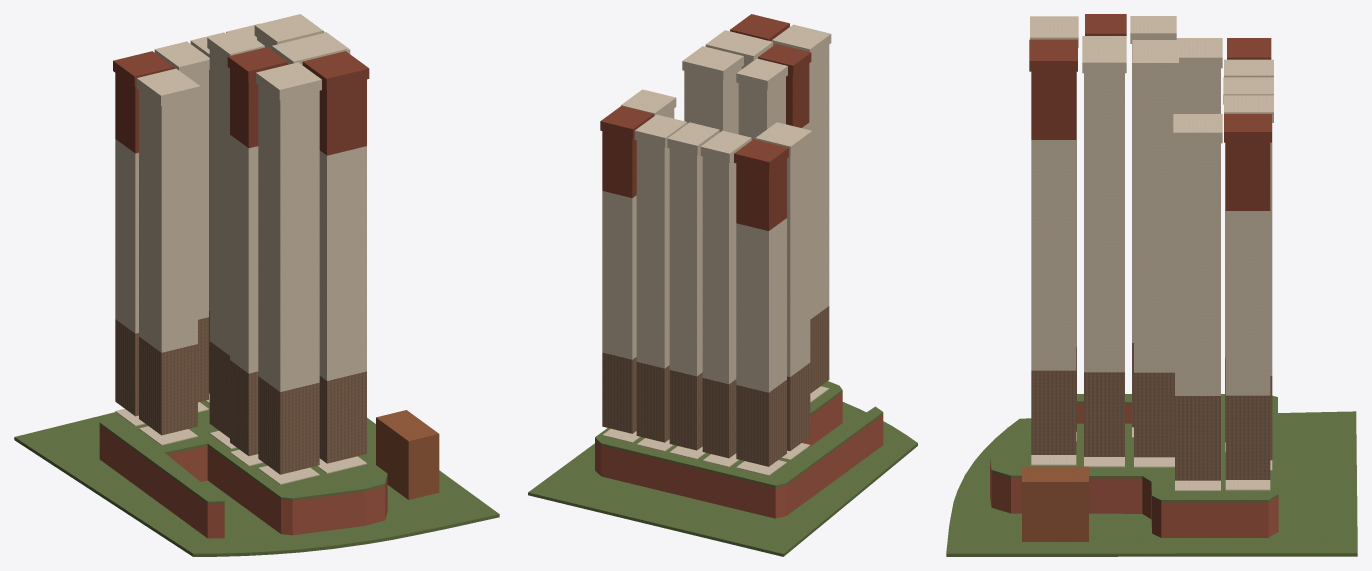
File: exterior-geographic.glb
3 views of the same model, side by side, from view 1: azimuth 30°, elevation 25°; view 2: azimuth 150°, elevation 25°; view 3: azimuth 270°, elevation 25° (orthographic). The views are drawn at different scales.
Parts seen in each view (by area): view 1: Geographic_wing_B, Geographic_wing_A, Geographic_podium_and_clubhouse, Geographic_parcel; view 2: Geographic_wing_A, Geographic_wing_B, Geographic_podium_and_clubhouse, Geographic_parcel; view 3: Geographic_wing_B, Geographic_wing_A, Geographic_parcel, Geographic_podium_and_clubhouse.
Part boxes in pixels (<box>): Geographic_wing_B: <box>207,14,369,484</box>; Geographic_wing_A: <box>113,23,350,445</box>; Geographic_podium_and_clubhouse: <box>99,401,439,538</box>; Geographic_parcel: <box>14,412,499,556</box>; Geographic_wing_A: <box>600,89,812,475</box>; Geographic_wing_B: <box>682,14,831,402</box>; Geographic_podium_and_clubhouse: <box>595,381,883,518</box>; Geographic_parcel: <box>528,402,917,556</box>; Geographic_wing_B: <box>1029,14,1178,467</box>; Geographic_wing_A: <box>1173,38,1273,490</box>; Geographic_parcel: <box>946,411,1357,556</box>; Geographic_podium_and_clubhouse: <box>990,394,1278,541</box>.
Bounding box in the file's own units: 121 × 179 × 148.
Materials: 6 (5 with a texture image).
